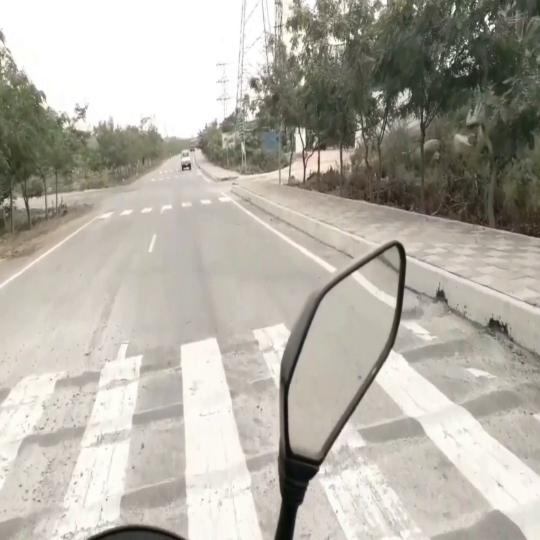Speed Bump: (1, 364, 275, 448), (0, 444, 276, 520), (0, 315, 261, 385), (381, 373, 540, 453), (404, 489, 540, 539), (397, 328, 499, 370), (405, 292, 447, 320)
